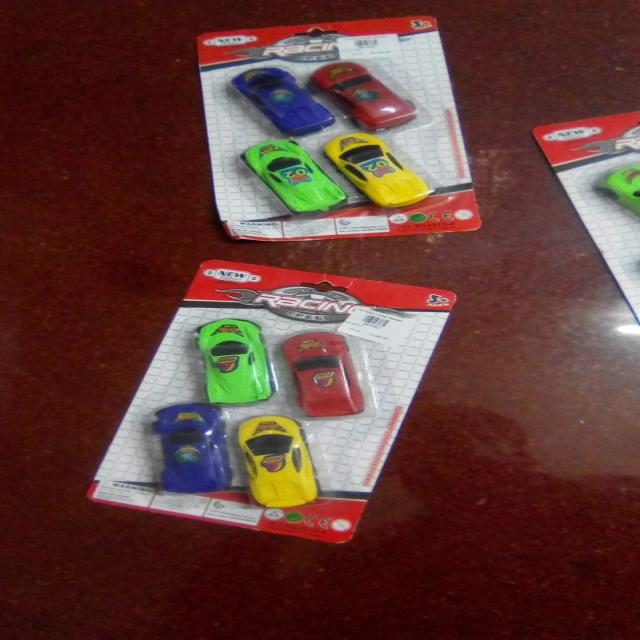Car: (324, 133, 433, 207), (242, 140, 347, 214), (237, 416, 318, 508), (153, 402, 231, 494), (311, 62, 416, 130), (283, 332, 364, 417), (197, 318, 274, 404)
